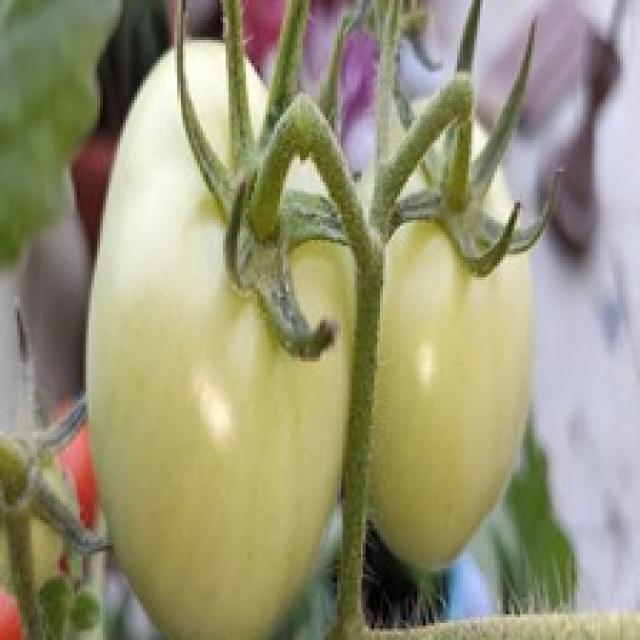Tomato: (55, 23, 367, 639), (350, 67, 576, 571)
